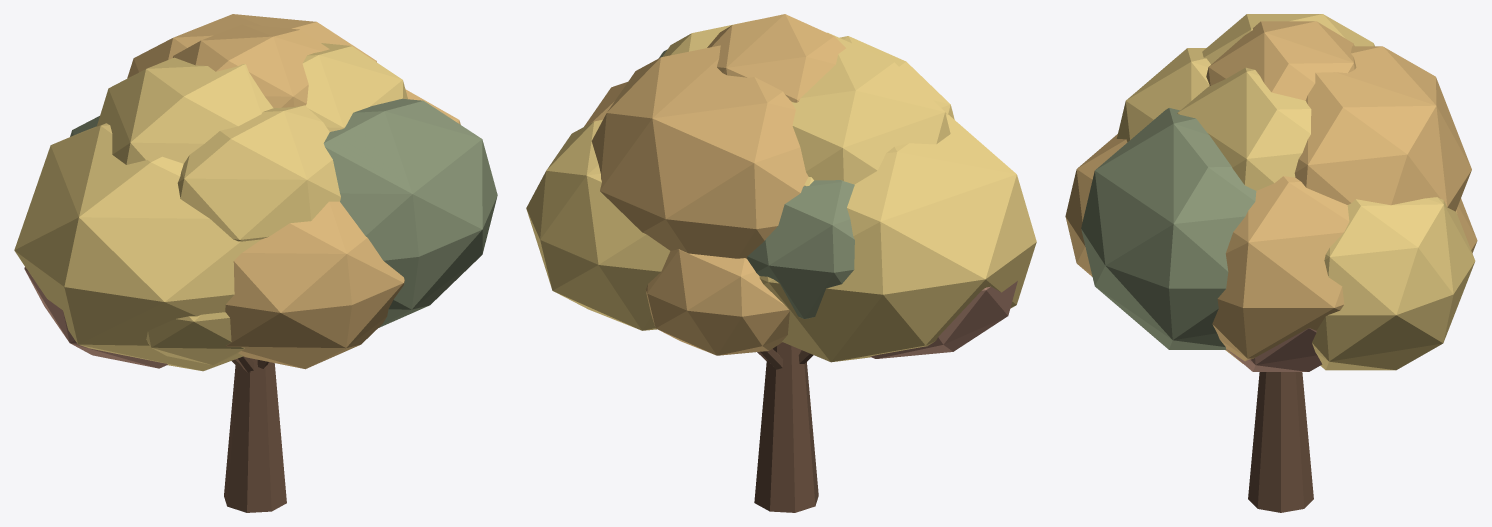
Rendered from tree_reference_oak_core_01_optimized.fbx.
3 renders of one model, left to right at view 1: azimuth 30°, elevation 25°; view 2: azimuth 150°, elevation 25°; view 3: azimuth 270°, elevation 25°, orthographic. The views are drawn at different scales.
Parts seen in each view (by area): view 1: tree_reference_oak_core_01_01_valendia_img2_gold_leaf_002, tree_reference_oak_core_01_04_valendia_img2_warm_leaf_002, tree_reference_oak_core_01_02_valendia_img2_olive_shadow_002, tree_reference_oak_core_01_00_valendia_dark_bark_002, tree_reference_oak_core_01_03_valendia_img2_russet_shadow_00; view 2: tree_reference_oak_core_01_01_valendia_img2_gold_leaf_002, tree_reference_oak_core_01_04_valendia_img2_warm_leaf_002, tree_reference_oak_core_01_02_valendia_img2_olive_shadow_002, tree_reference_oak_core_01_00_valendia_dark_bark_002, tree_reference_oak_core_01_03_valendia_img2_russet_shadow_00; view 3: tree_reference_oak_core_01_04_valendia_img2_warm_leaf_002, tree_reference_oak_core_01_01_valendia_img2_gold_leaf_002, tree_reference_oak_core_01_02_valendia_img2_olive_shadow_002, tree_reference_oak_core_01_00_valendia_dark_bark_002, tree_reference_oak_core_01_03_valendia_img2_russet_shadow_00.
Part boxes in pixels (left/top/right/bottom): tree_reference_oak_core_01_01_valendia_img2_gold_leaf_002: left=14, top=43, right=407, bottom=371; tree_reference_oak_core_01_04_valendia_img2_warm_leaf_002: left=127, top=14, right=460, bottom=369; tree_reference_oak_core_01_02_valendia_img2_olive_shadow_002: left=70, top=98, right=497, bottom=327; tree_reference_oak_core_01_00_valendia_dark_bark_002: left=224, top=356, right=286, bottom=512; tree_reference_oak_core_01_03_valendia_img2_russet_shadow_00: left=24, top=267, right=167, bottom=368; tree_reference_oak_core_01_01_valendia_img2_gold_leaf_002: left=526, top=20, right=1036, bottom=362; tree_reference_oak_core_01_04_valendia_img2_warm_leaf_002: left=584, top=14, right=845, bottom=355; tree_reference_oak_core_01_02_valendia_img2_olive_shadow_002: left=659, top=49, right=854, bottom=318; tree_reference_oak_core_01_00_valendia_dark_bark_002: left=754, top=342, right=818, bottom=512; tree_reference_oak_core_01_03_valendia_img2_russet_shadow_00: left=870, top=281, right=1017, bottom=358; tree_reference_oak_core_01_04_valendia_img2_warm_leaf_002: left=1065, top=21, right=1477, bottom=363; tree_reference_oak_core_01_01_valendia_img2_gold_leaf_002: left=1116, top=14, right=1475, bottom=370; tree_reference_oak_core_01_02_valendia_img2_olive_shadow_002: left=1081, top=108, right=1256, bottom=349; tree_reference_oak_core_01_00_valendia_dark_bark_002: left=1248, top=372, right=1313, bottom=512; tree_reference_oak_core_01_03_valendia_img2_russet_shadow_00: left=1226, top=328, right=1322, bottom=371.
Bounding box in the file's own units: 506 × 536 × 425.
